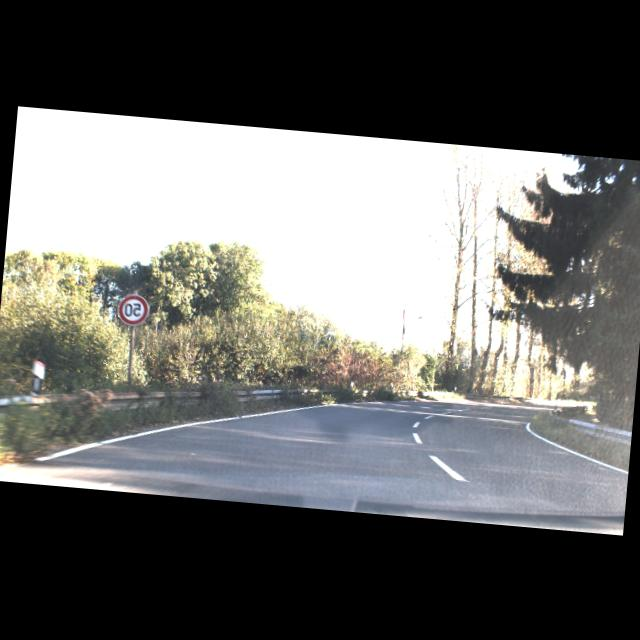prohibitory: (117, 292, 150, 325)
